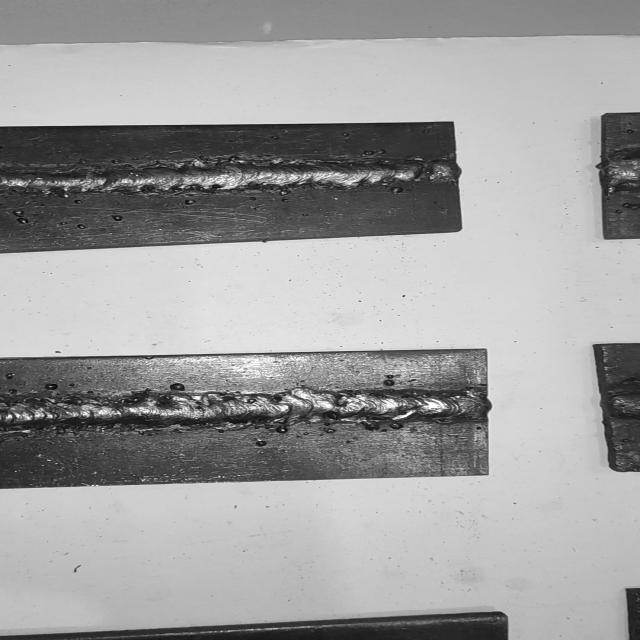Defect: (393, 146, 470, 194), (599, 150, 640, 194), (42, 380, 94, 406), (136, 378, 194, 400), (600, 390, 640, 419), (372, 370, 418, 395), (11, 202, 48, 226)
Welding Line: (0, 390, 481, 428), (2, 156, 456, 192)
Workpiece: (0, 344, 500, 492), (0, 116, 473, 255)
